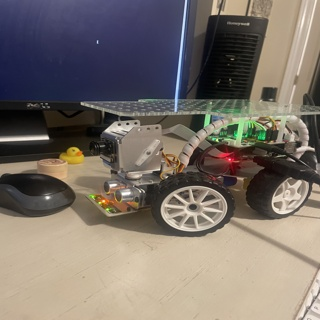vehicle: (79, 98, 319, 235)
